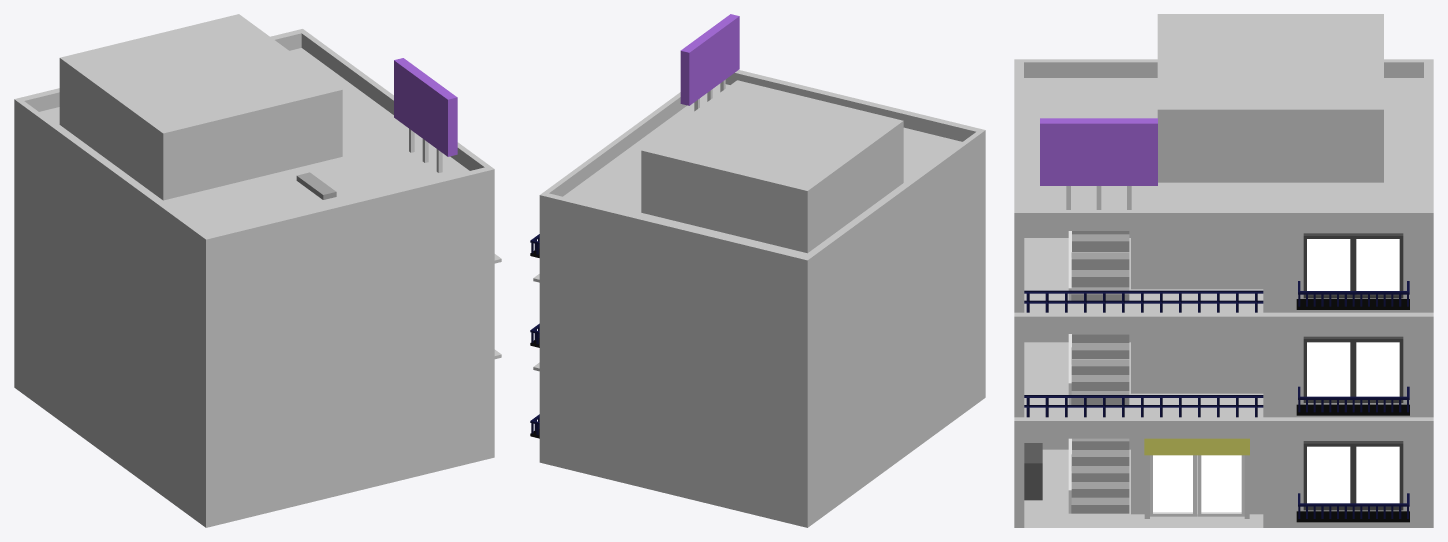
3 views of the same model, side by side, from view 1: azimuth 30°, elevation 25°; view 2: azimuth 150°, elevation 25°; view 3: azimuth 270°, elevation 25° (orthographic). The views are drawn at different scales.
Visible parts, largest first — view 1: 平面.063, 立方體, 平面.073; view 2: 平面.063, 立方體; view 3: 平面.063, 立方體, 平面.066, 平面.070, 平面.071, 平面.073, 平面.064, 平面.065, 平面.067, 立方體.001.
Part boxes in pixels (bbox=[...]): 平面.063: bbox=[14, 14, 501, 527]; 立方體: bbox=[394, 58, 457, 172]; 平面.073: bbox=[296, 172, 336, 199]; 平面.063: bbox=[533, 70, 985, 527]; 立方體: bbox=[680, 14, 739, 111]; 平面.063: bbox=[1014, 14, 1433, 527]; 立方體: bbox=[1040, 118, 1157, 209]; 平面.066: bbox=[1024, 290, 1263, 417]; 平面.070: bbox=[1071, 438, 1129, 513]; 平面.071: bbox=[1071, 334, 1129, 404]; 平面.073: bbox=[1071, 231, 1129, 300]; 平面.064: bbox=[1296, 299, 1409, 522]; 平面.065: bbox=[1298, 281, 1409, 518]; 平面.067: bbox=[1150, 455, 1244, 516]; 立方體.001: bbox=[1024, 443, 1042, 500].
Bounding box in the file's own units: 536 × 593 × 575.
